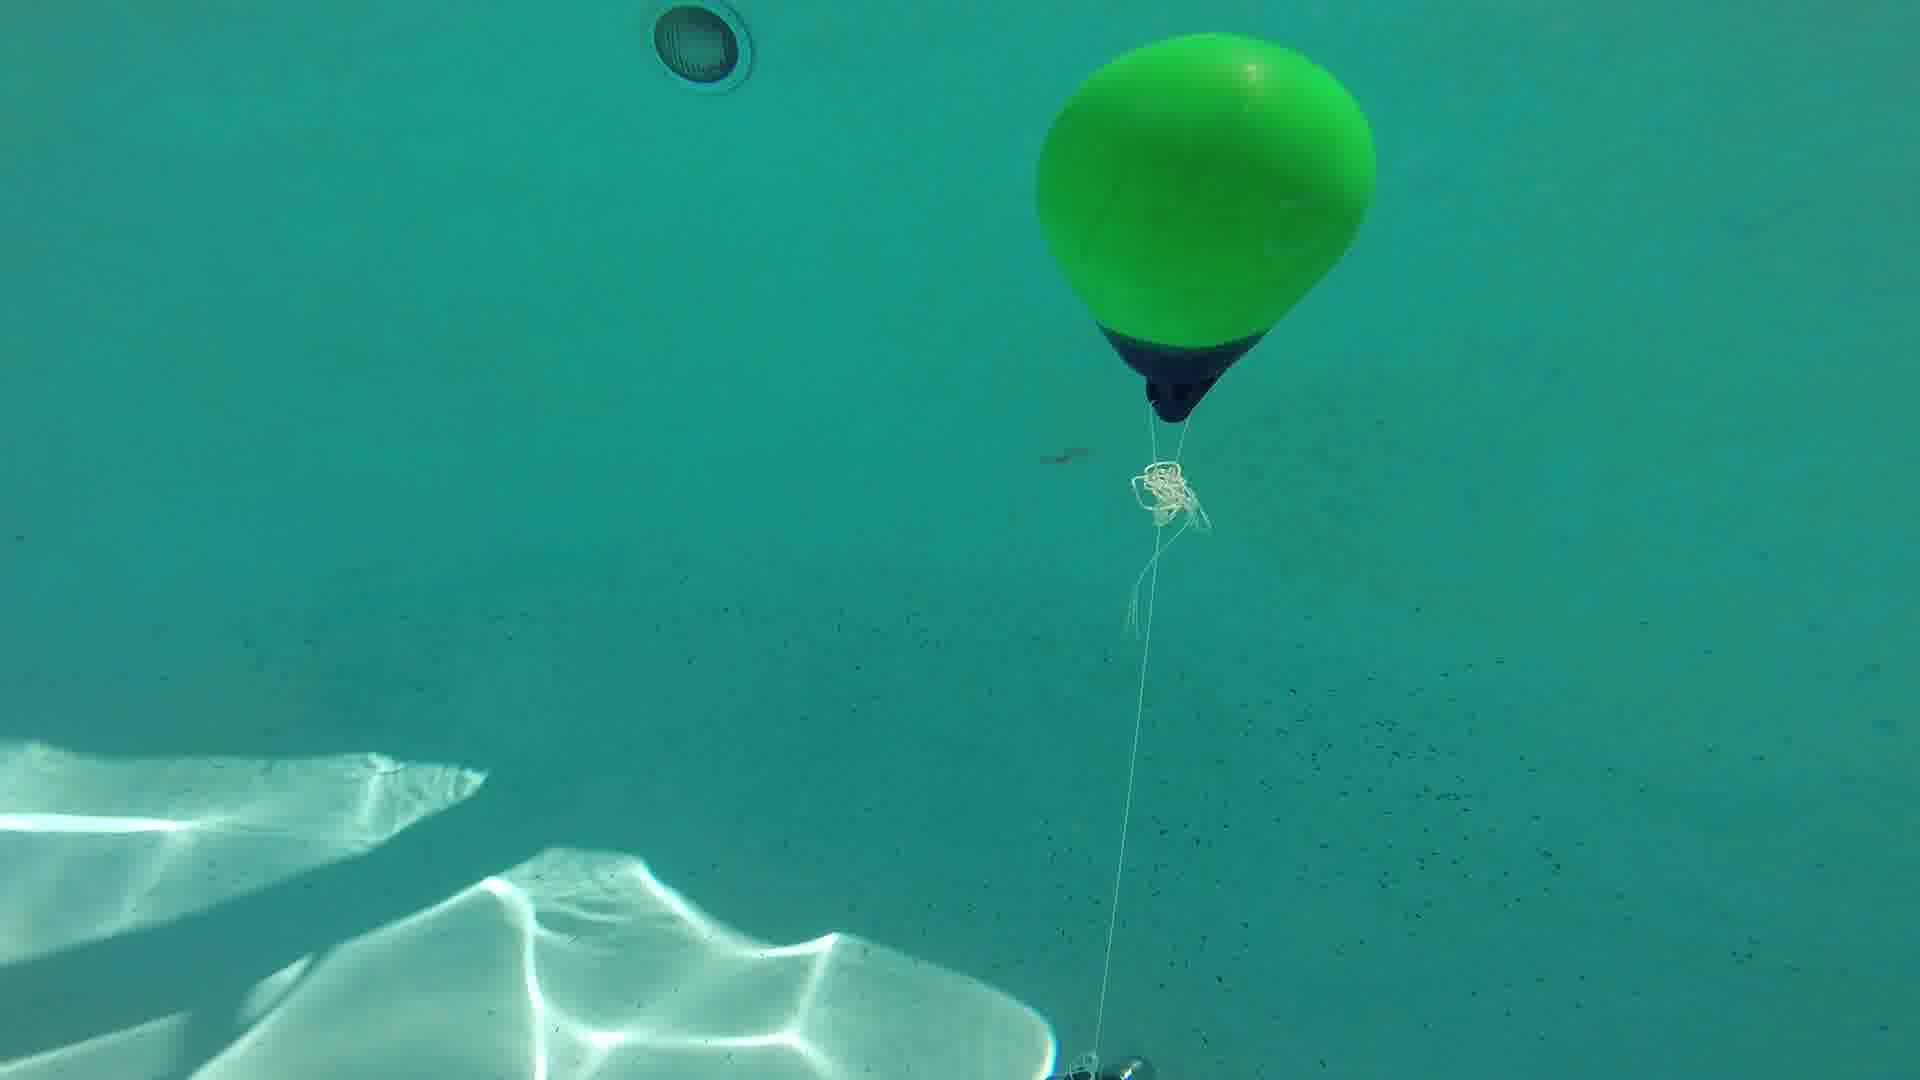yellow_buoy: (1021, 34, 1391, 430)
